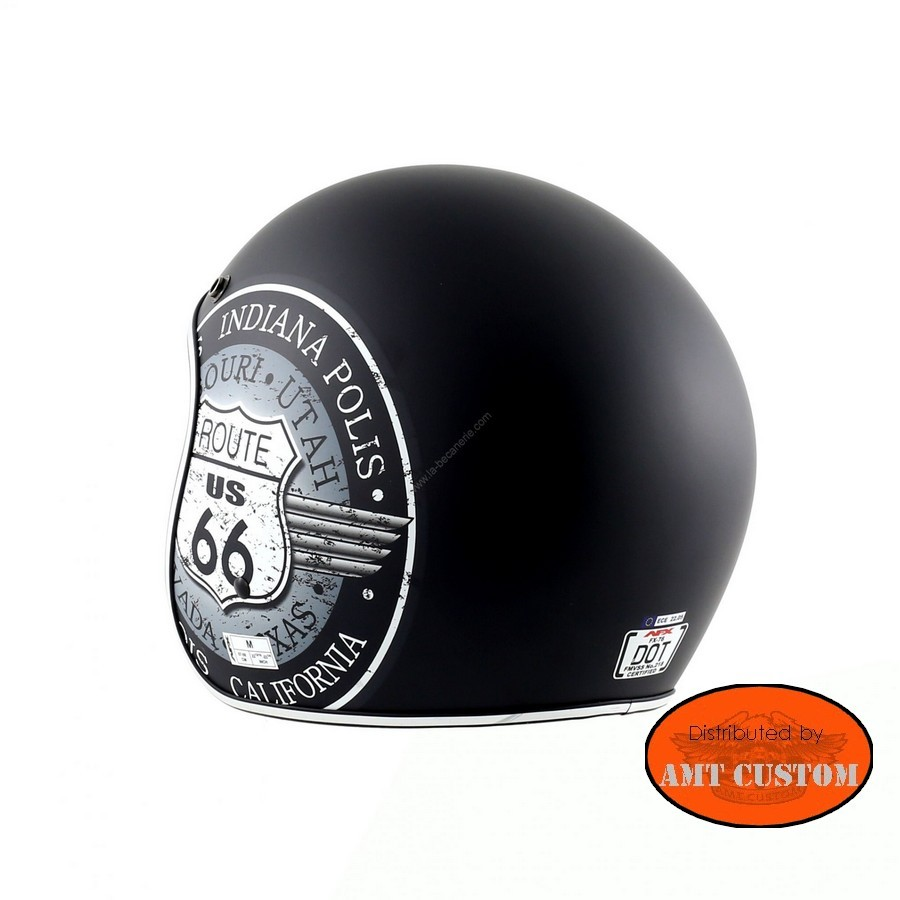with_helmet: (170, 168, 757, 726)
